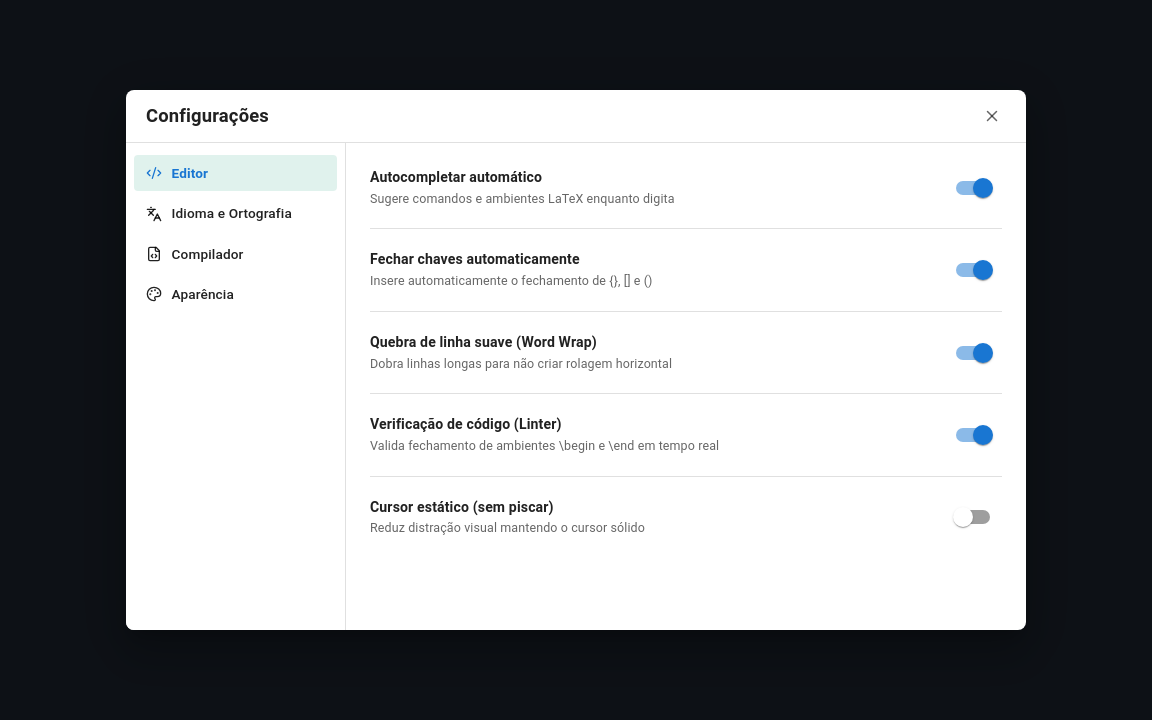
Test case: SettingsModal Component › should switch tabs and display language options
This screenshot has width=1152, height=720.
Step 1. Click the button "Idioma e Ortografia" → (236, 214), box [134,195,337,232]
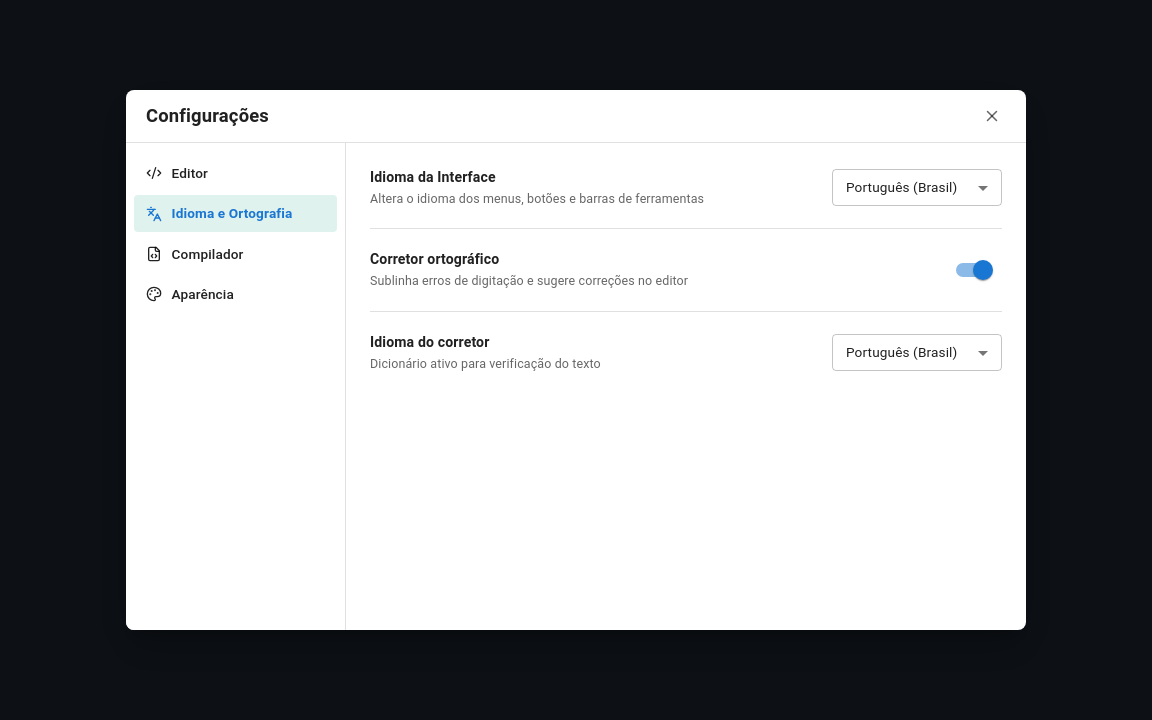
expect the text "Idioma da Interface" is shown: met, box [370,169,496,185]
expect the text "Corretor ortográfico" is shown: met, box [370,251,499,267]
